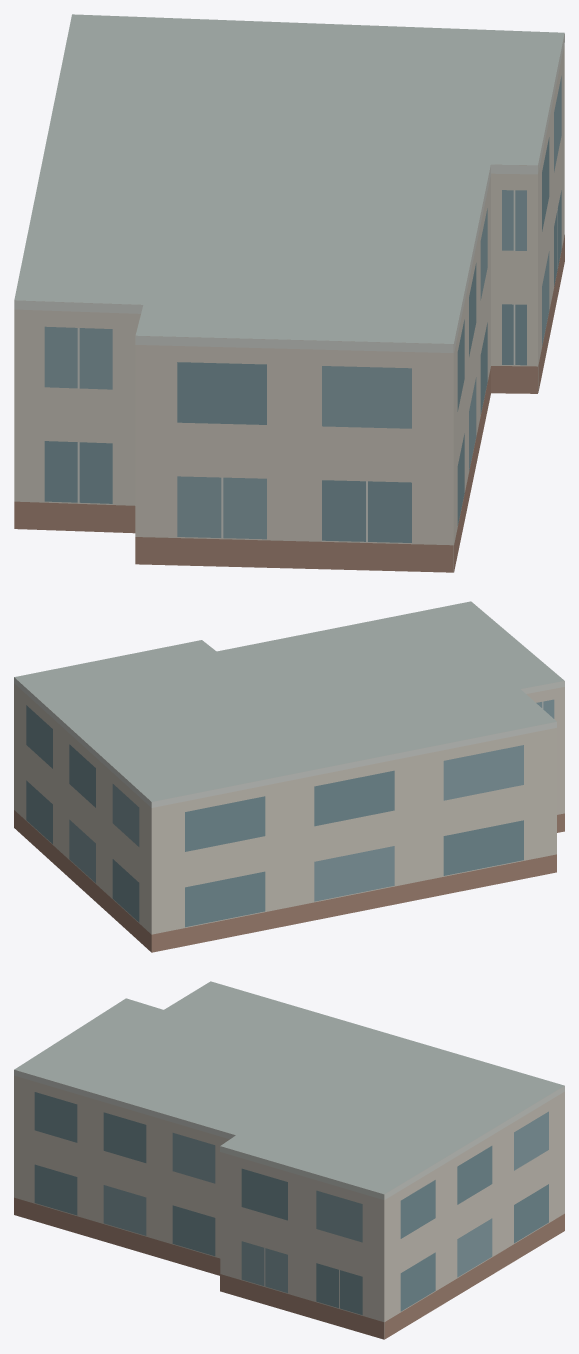
The model's file is survey-upis-32506146.glb.
3 renders of one model, top to bottom at view 1: azimuth 30°, elevation 25°; view 2: azimuth 150°, elevation 25°; view 3: azimuth 270°, elevation 25°, orthographic. The views are drawn at different scales.
Parts seen in each view (by area): view 1: survey-upis-32506146.tmp; view 2: survey-upis-32506146.tmp; view 3: survey-upis-32506146.tmp.
Part boxes in pixels (x1,y1,x2,y2): survey-upis-32506146.tmp: [14, 14, 564, 572]; survey-upis-32506146.tmp: [14, 601, 564, 952]; survey-upis-32506146.tmp: [14, 981, 564, 1339].
Bounding box in the file's own units: 19.21 × 6.1 × 20.97.
